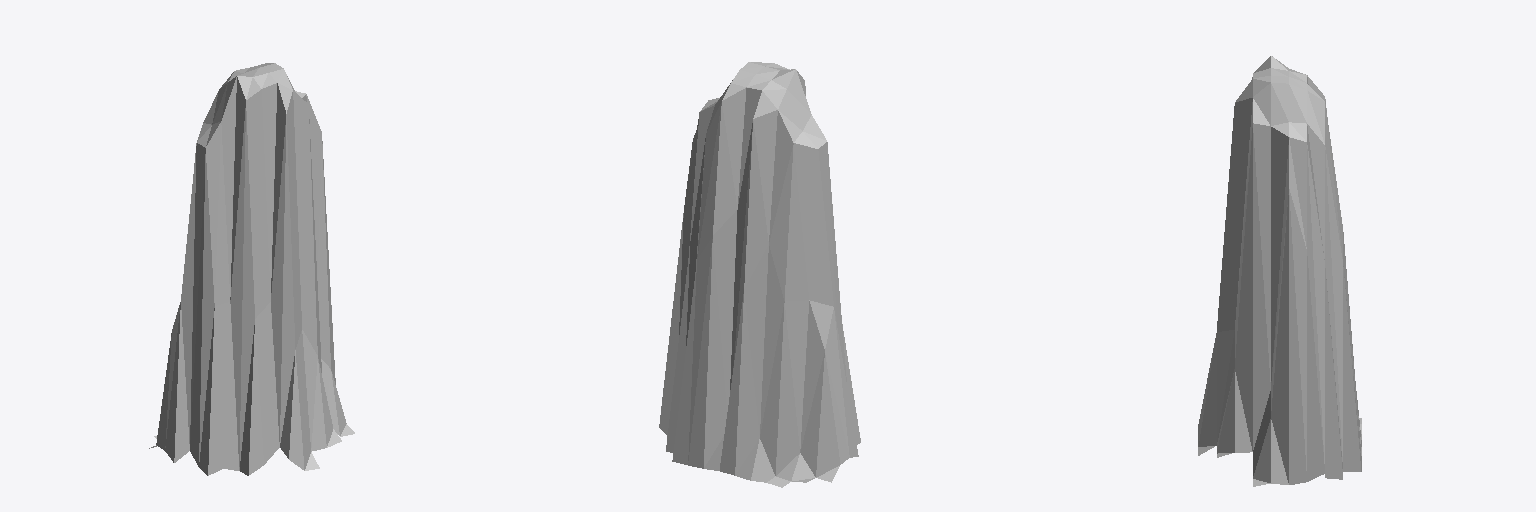
Rendered from tree_67.obj.
The picture shows the model from 3 angles: view 1: azimuth 30°, elevation 25°; view 2: azimuth 150°, elevation 25°; view 3: azimuth 270°, elevation 25°; orthographic projection.
Parts seen in each view (by area): view 1: tree_67; view 2: tree_67; view 3: tree_67.
Boxes of the visible parts, x1,y1,x2,y2 form: tree_67: [149, 63, 354, 475]; tree_67: [659, 62, 860, 487]; tree_67: [1198, 56, 1361, 486].
Size of the model in its own units: 11 by 23.07 by 9.